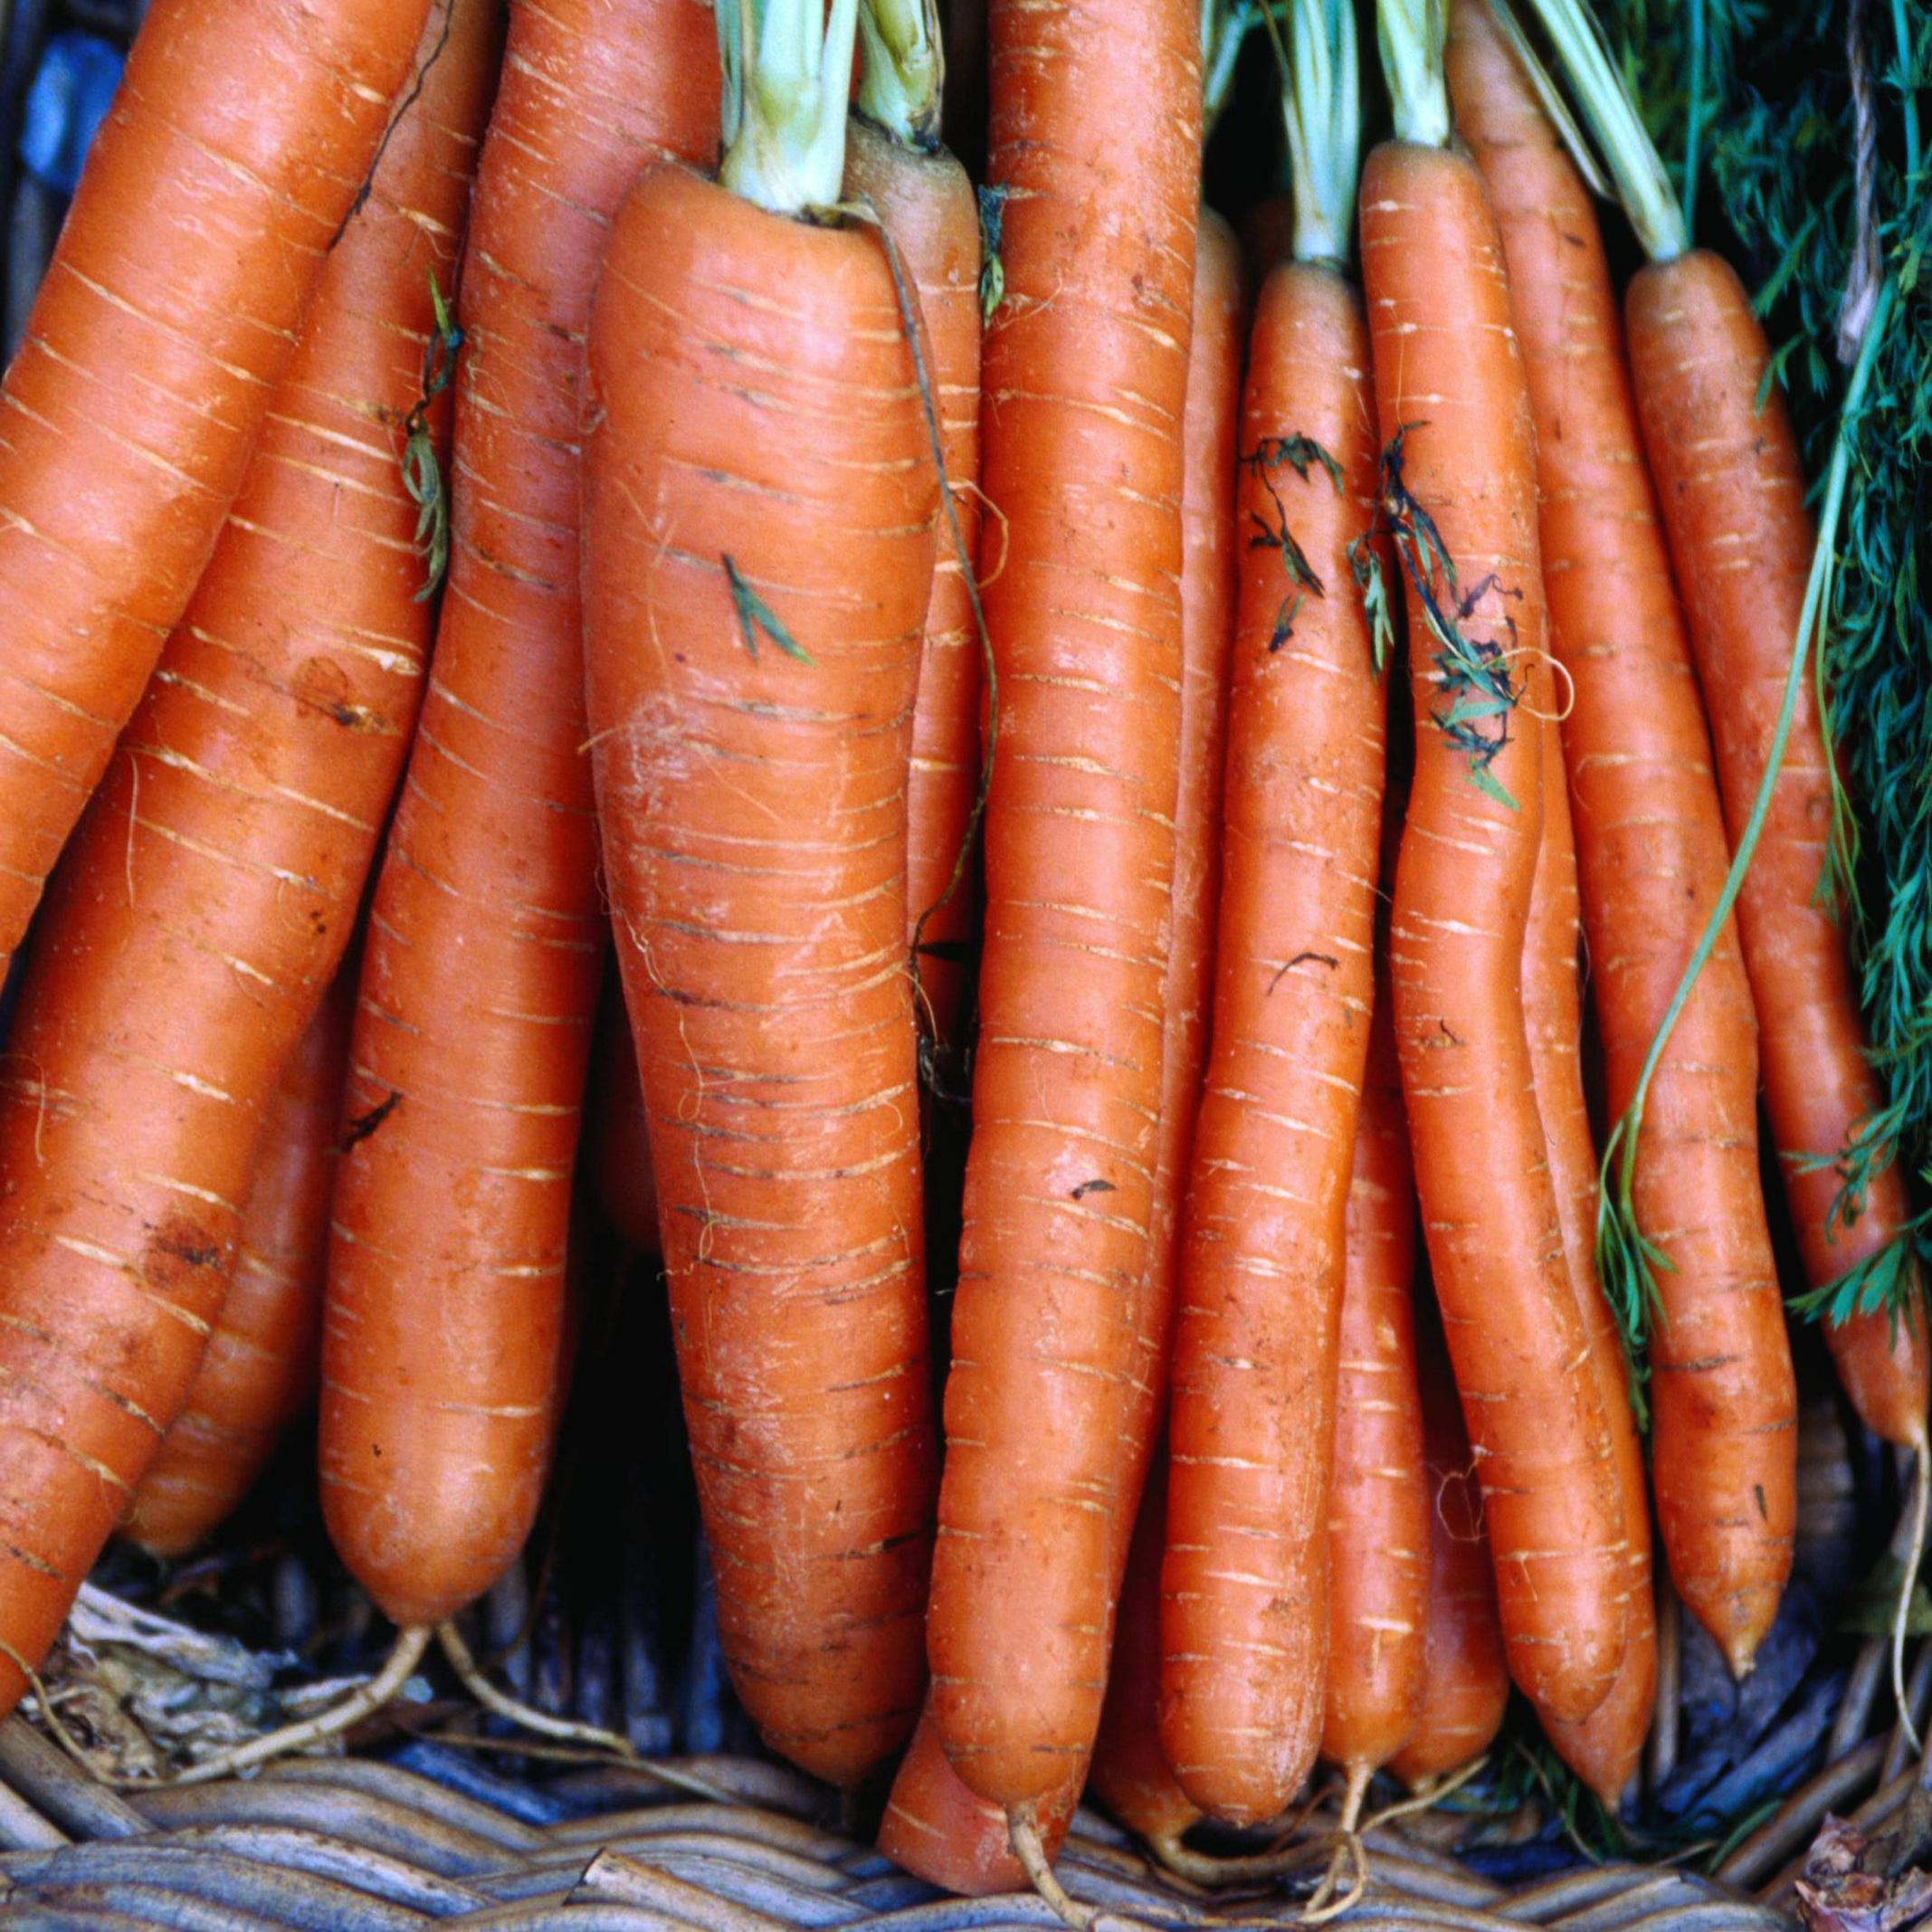carrot: (7, 0, 1932, 1909), (1274, 73, 1927, 1831), (14, 0, 547, 1854), (571, 0, 934, 1799), (975, 0, 1219, 1840)
